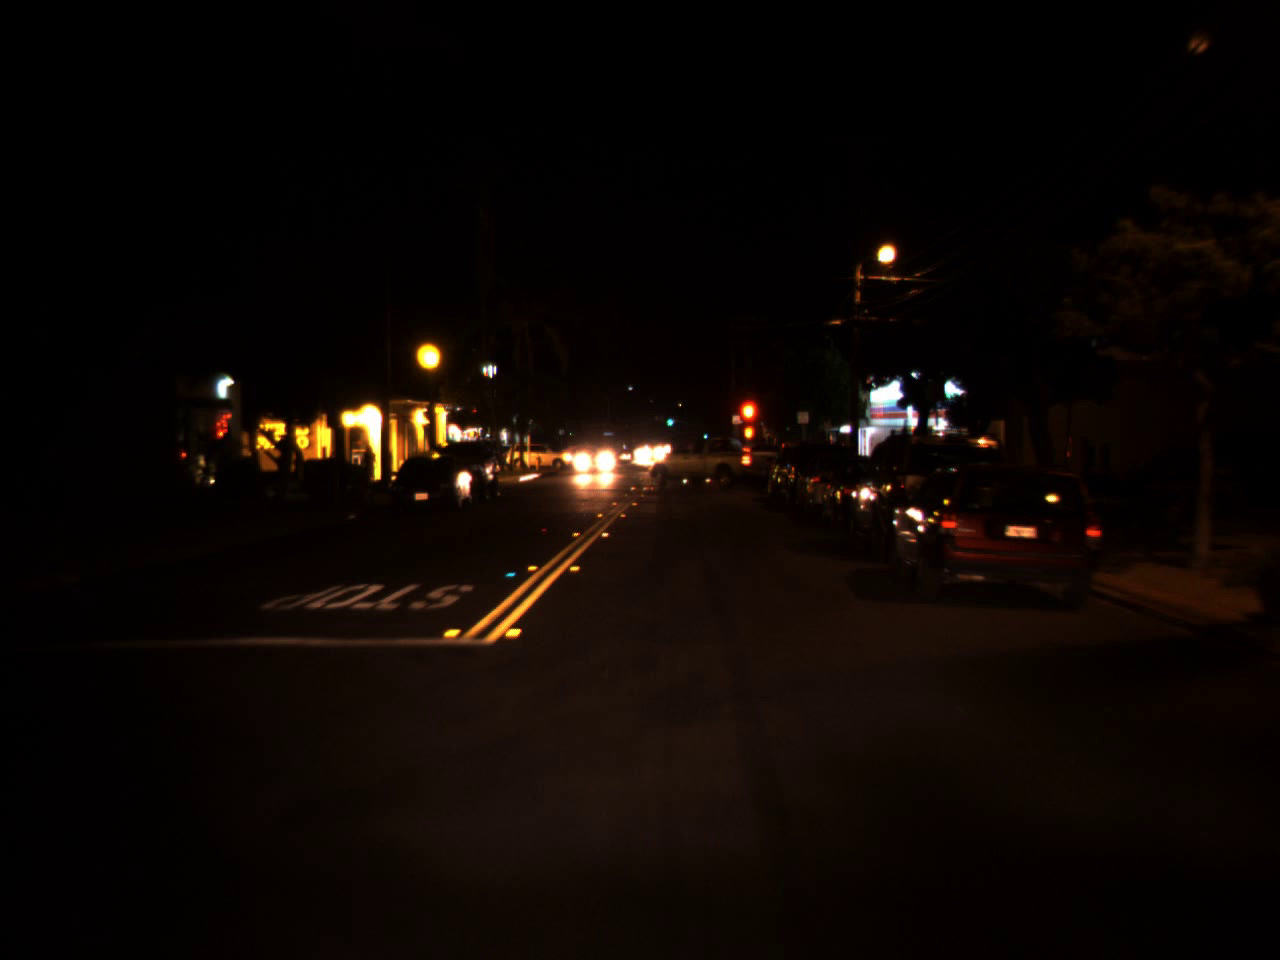go: (665, 411, 674, 429), (701, 428, 708, 440)
stop: (735, 397, 760, 451)
